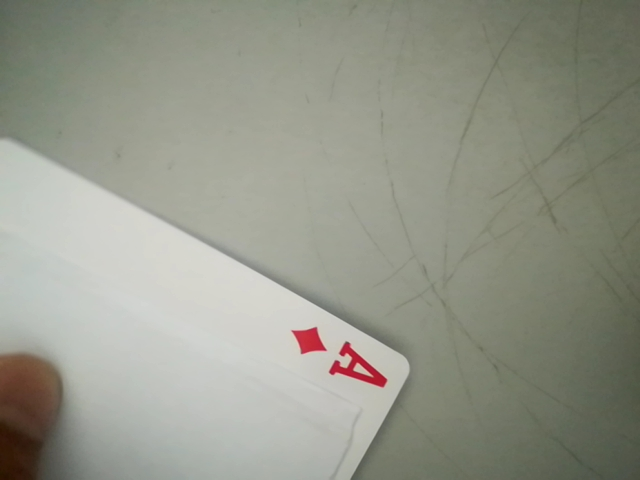fk a: (277, 319, 397, 395)
